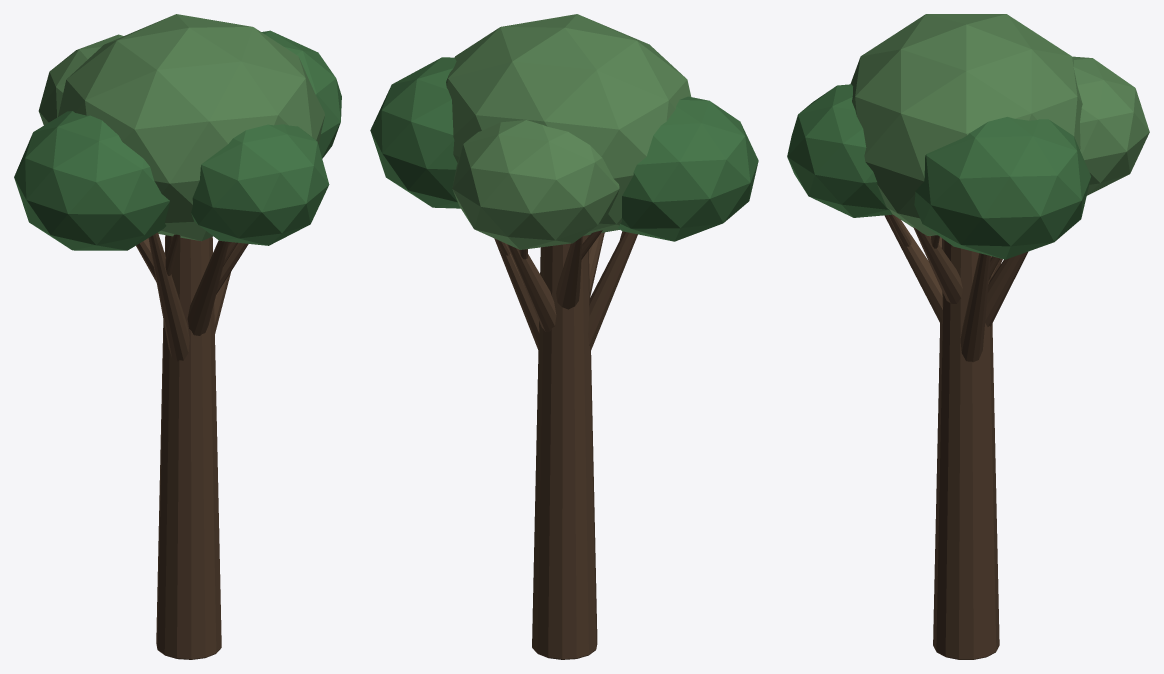
The model's file is Tree_Street.fbx.
3 views of the same model, side by side, from view 1: azimuth 30°, elevation 25°; view 2: azimuth 150°, elevation 25°; view 3: azimuth 270°, elevation 25° (orthographic).
Visible parts, largest first — view 1: Street tree crown.005, Street tree trunk.001, Street tree crown.006, Street tree crown.009, Street tree crown.007, Street tree main branch.006, Street tree crown.008, Street tree main branch.007; view 2: Street tree crown.005, Street tree trunk.001, Street tree crown.008, Street tree crown.006, Street tree crown.007, Street tree main branch.006, Street tree main branch.010, Street tree main branch.011, Street tree main branch.009; view 3: Street tree crown.005, Street tree trunk.001, Street tree crown.007, Street tree crown.009, Street tree crown.008, Street tree main branch.009, Street tree main branch.007, Street tree main branch.008, Street tree main branch.010.
Part boxes in pixels (box(x1,y1,x2,y2)): Street tree crown.005: box(58, 14, 324, 241); Street tree trunk.001: box(156, 235, 221, 659); Street tree crown.006: box(14, 111, 169, 250); Street tree crown.009: box(191, 124, 329, 245); Street tree crown.007: box(261, 30, 341, 158); Street tree main branch.006: box(148, 232, 189, 361); Street tree crown.008: box(38, 34, 123, 125); Street tree main branch.007: box(187, 240, 228, 335); Street tree crown.005: box(446, 14, 691, 235); Street tree trunk.001: box(532, 235, 597, 659); Street tree crown.008: box(452, 120, 619, 249); Street tree crown.006: box(618, 96, 758, 241); Street tree crown.007: box(370, 57, 460, 208); Street tree main branch.006: box(588, 231, 637, 351); Street tree main branch.010: box(507, 244, 556, 331); Street tree main branch.011: box(556, 236, 582, 309); Street tree main branch.009: box(494, 238, 539, 349); Street tree crown.005: box(850, 14, 1082, 235); Street tree trunk.001: box(933, 238, 999, 659); Street tree crown.007: box(914, 117, 1091, 259); Street tree crown.009: box(787, 84, 892, 217); Street tree crown.008: box(1072, 56, 1149, 195); Street tree main branch.009: box(960, 253, 990, 362); Street tree main branch.007: box(884, 215, 942, 324); Street tree main branch.008: box(913, 227, 962, 303); Street tree main branch.010: box(985, 252, 1027, 326).
Bounding box in the file's own units: 4.44 × 7.83 × 4.14.
